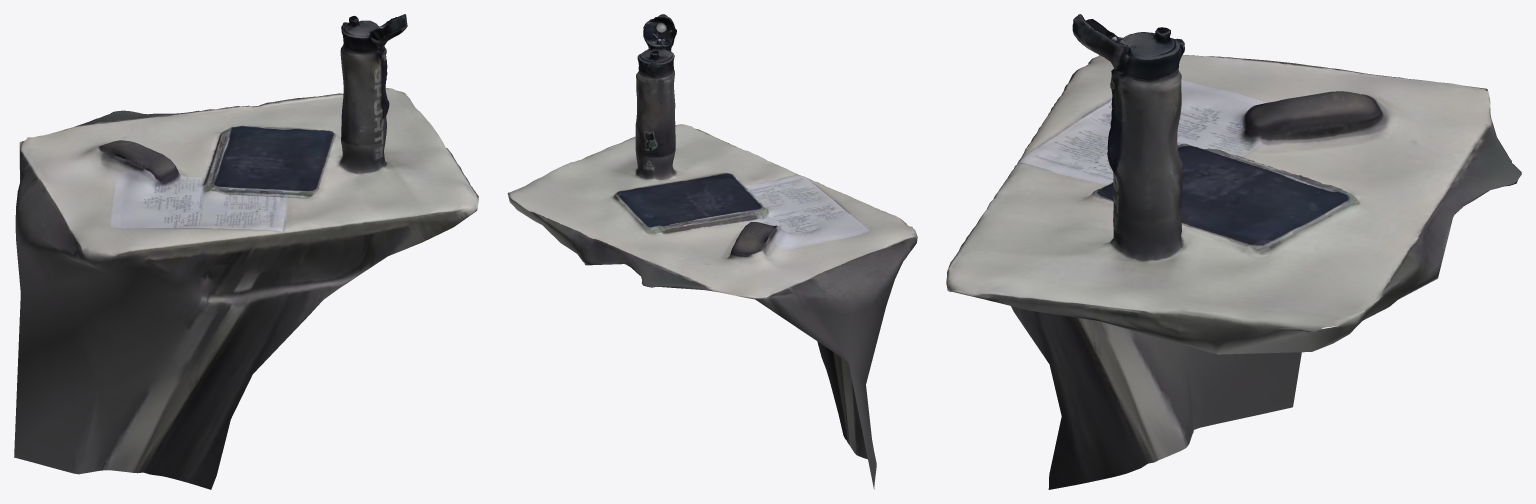
The model's file is room_scan.glb.
The picture shows the model from 3 angles, left to right: view 1: azimuth 30°, elevation 25°; view 2: azimuth 150°, elevation 25°; view 3: azimuth 270°, elevation 25°; orthographic projection. The views are drawn at different scales.
Parts seen in each view (by area): view 1: 3DModel; view 2: 3DModel; view 3: 3DModel.
Part boxes in pixels (left/top/right/bottom): 3DModel: left=14, top=14, right=478, bottom=489; 3DModel: left=507, top=14, right=917, bottom=489; 3DModel: left=946, top=14, right=1521, bottom=489.
Bounding box in the file's own units: 1.09 × 1.06 × 0.9005.
Materials: 1 (1 with a texture image).
